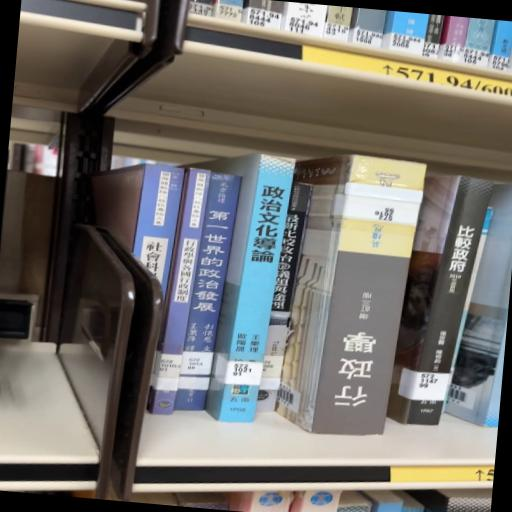reverse: (276, 155, 426, 435)
